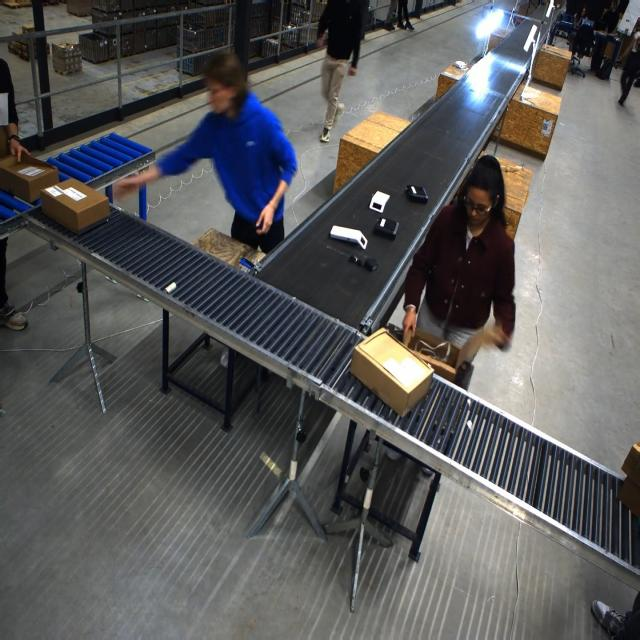box: (352, 330, 433, 418), (39, 179, 110, 236), (404, 329, 464, 384), (0, 149, 59, 204), (616, 441, 639, 519)
product: (344, 255, 386, 278), (329, 225, 366, 250), (364, 187, 390, 214), (373, 217, 399, 240), (404, 185, 428, 204)
